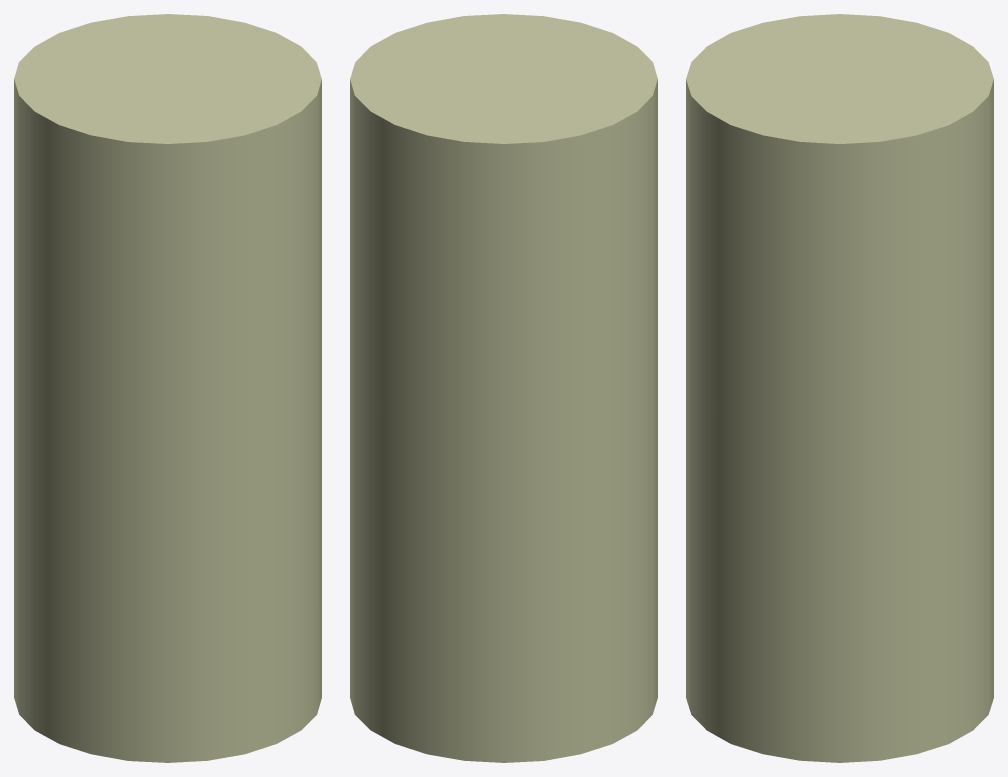
Rendered from SansevieriaTrifasciata.glb.
3 renders of one model, left to right at view 1: azimuth 30°, elevation 25°; view 2: azimuth 150°, elevation 25°; view 3: azimuth 270°, elevation 25°, orthographic.
Visible parts, largest first — view 1: Snake_Plant__Schematic_LOD3; view 2: Snake_Plant__Schematic_LOD3; view 3: Snake_Plant__Schematic_LOD3.
Part boxes in pixels (left/top/right/bottom): Snake_Plant__Schematic_LOD3: left=14, top=14, right=321, bottom=762; Snake_Plant__Schematic_LOD3: left=350, top=14, right=657, bottom=762; Snake_Plant__Schematic_LOD3: left=686, top=14, right=993, bottom=762.
Bounding box in the file's own units: 0.46 × 1.02 × 0.46.
